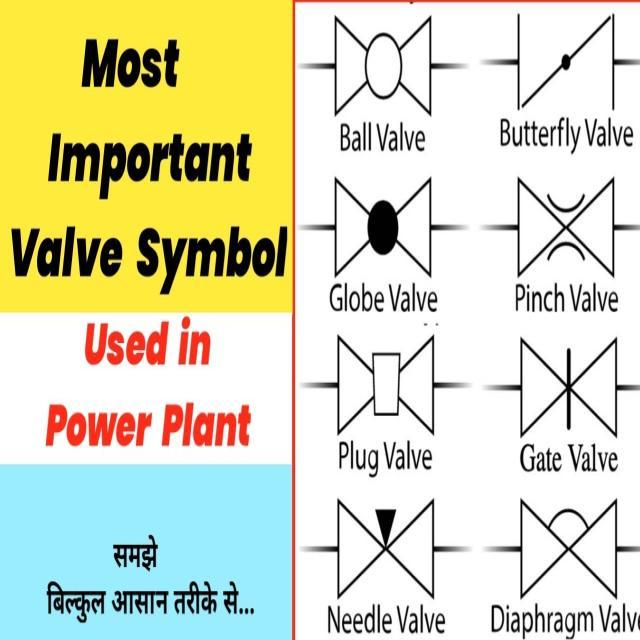Ball Valve: (323, 8, 441, 123)
Butterfly Valve: (502, 9, 628, 112)
Diaphragm Valve: (498, 482, 626, 604)
Globe Valve: (324, 167, 454, 286)
Needle Valve: (324, 482, 466, 608), (507, 322, 634, 442)
Pinch Valve: (491, 155, 633, 280)
Plug Valve: (321, 324, 452, 441)
